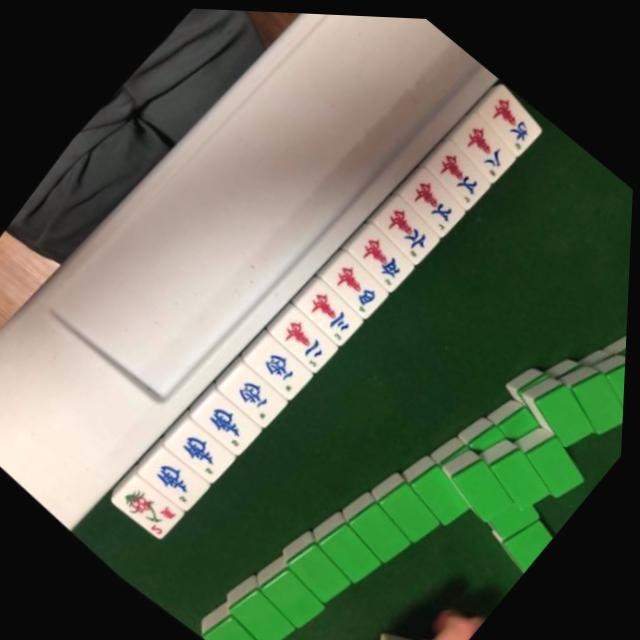bs2: (107, 465, 186, 539)
hws: (163, 413, 235, 480), (137, 441, 208, 508), (190, 386, 260, 452)
hww: (217, 359, 288, 425), (245, 333, 311, 395)
sc2: (269, 303, 340, 370)
sc3: (293, 276, 366, 344)
sc4: (316, 246, 392, 317)
sc5: (345, 220, 417, 290)
sc6: (370, 193, 443, 262)
sc7: (397, 167, 469, 233), (424, 142, 493, 206)
sc8: (449, 113, 520, 181)
sc9: (473, 85, 545, 153)
